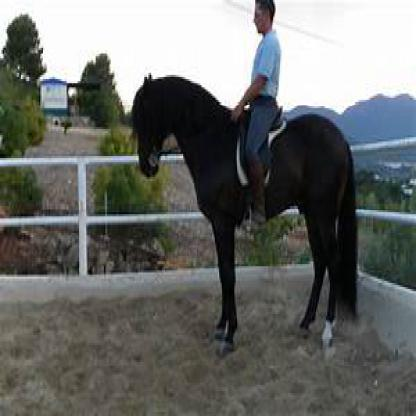horse: (133, 73, 356, 358)
